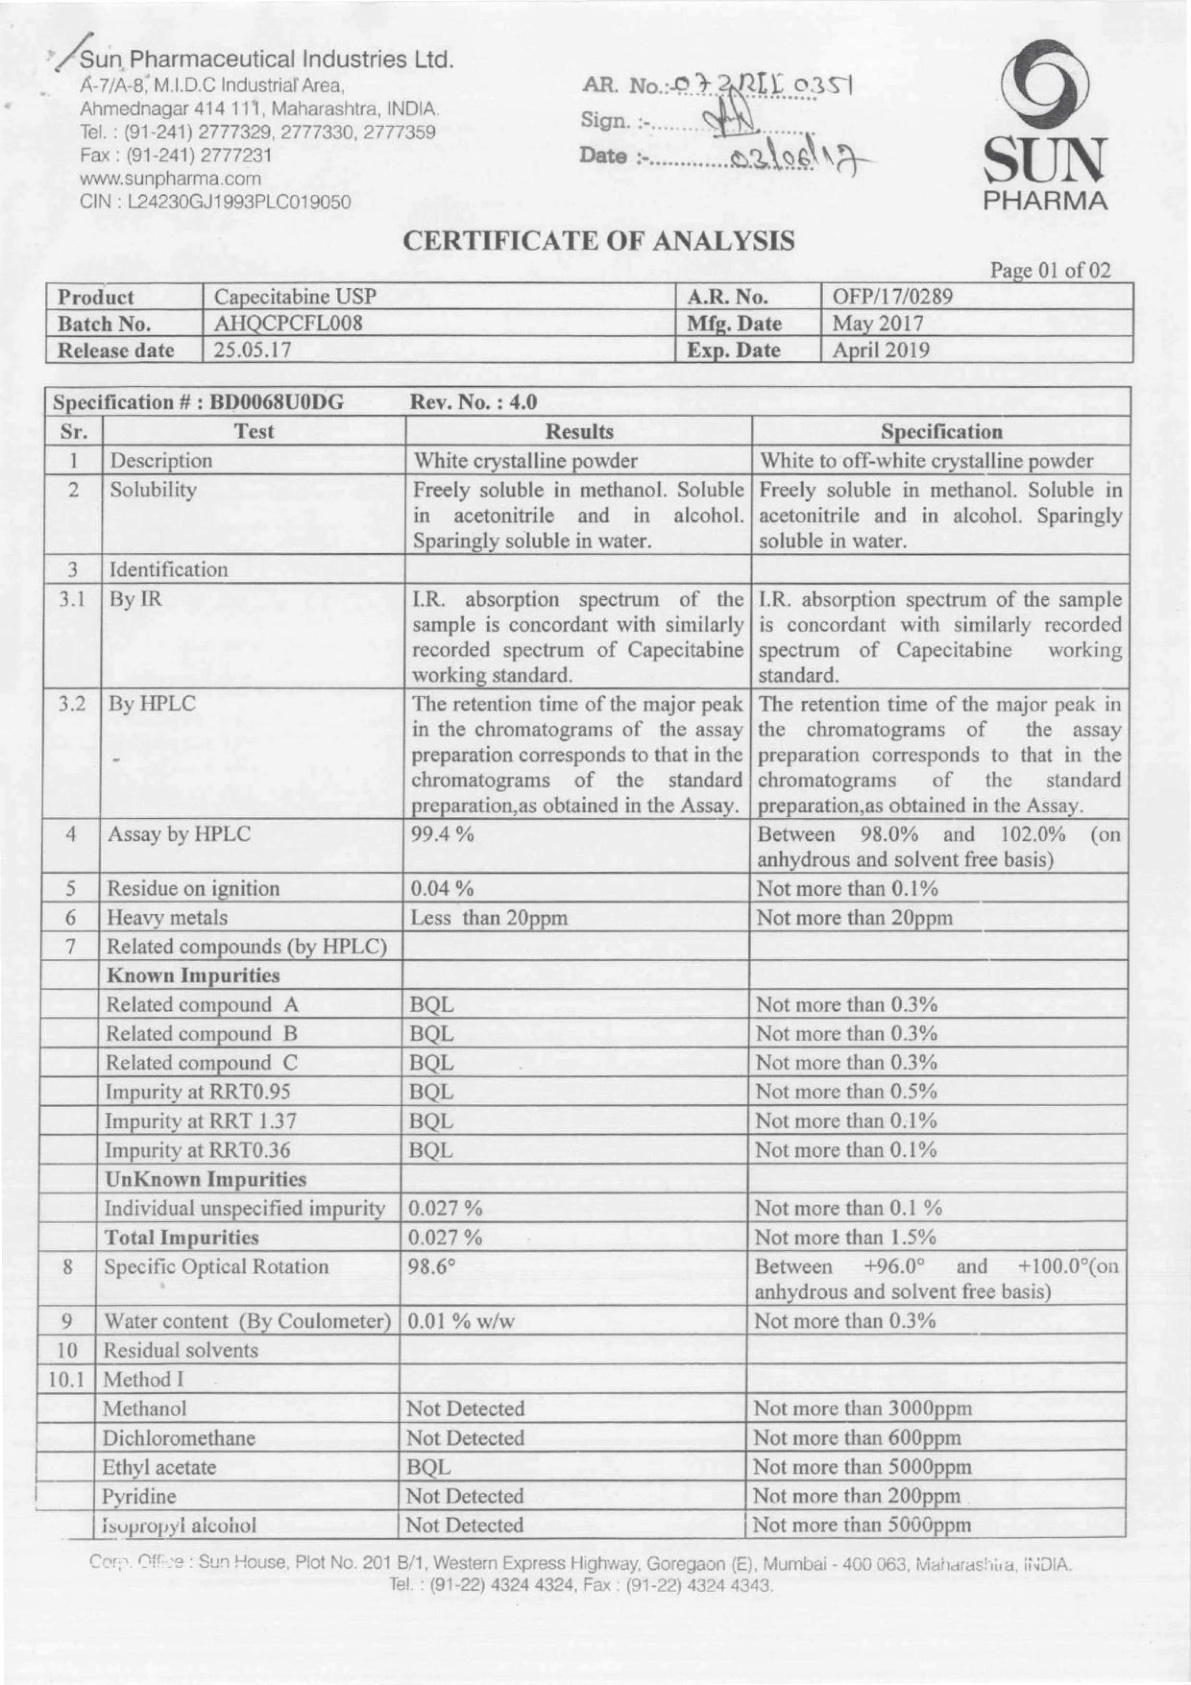full_lined: (34, 384, 1132, 1541), (44, 280, 1136, 364)
